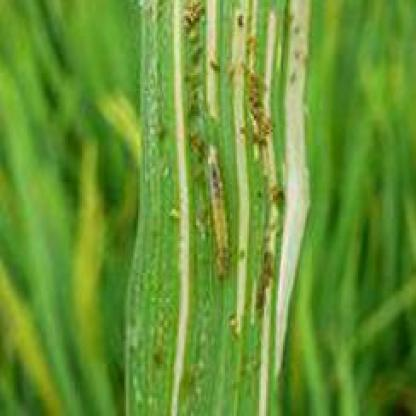leaf-folder: (194, 141, 238, 292)
